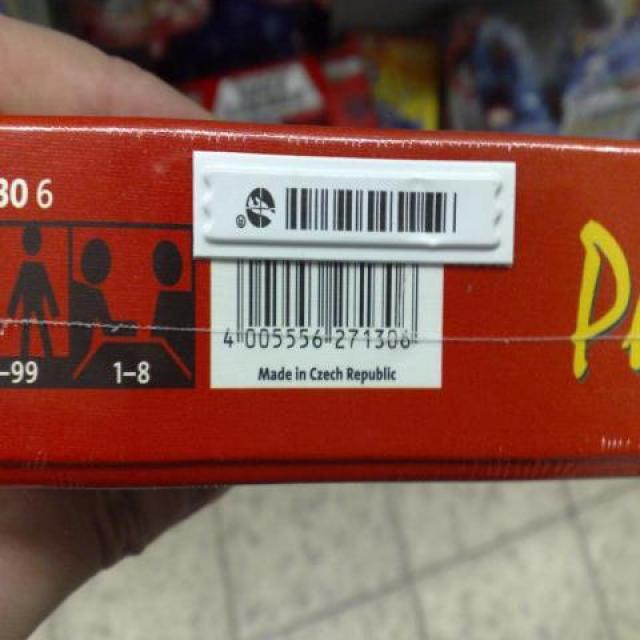Barcode: (221, 248, 438, 360)
